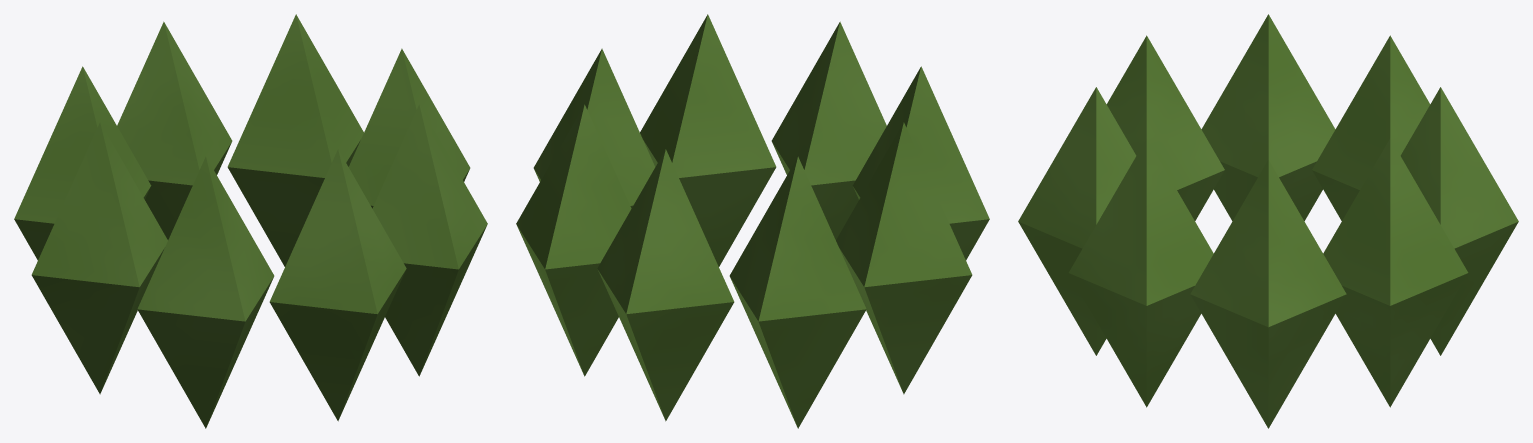
Rendered from fern.obj.
The picture shows the model from 3 angles, left to right: view 1: azimuth 30°, elevation 25°; view 2: azimuth 150°, elevation 25°; view 3: azimuth 270°, elevation 25°; orthographic projection.
Parts seen in each view (by area): view 1: fern; view 2: fern; view 3: fern.
Boxes of the visible parts, x1=… form: fern: x1=14, y1=14, x2=487, y2=428; fern: x1=516, y1=14, x2=989, y2=428; fern: x1=1018, y1=14, x2=1518, y2=428.
Bounding box in the file's own units: 0.64 × 0.38 × 0.64.
Materials: 1 (1 with a texture image).
